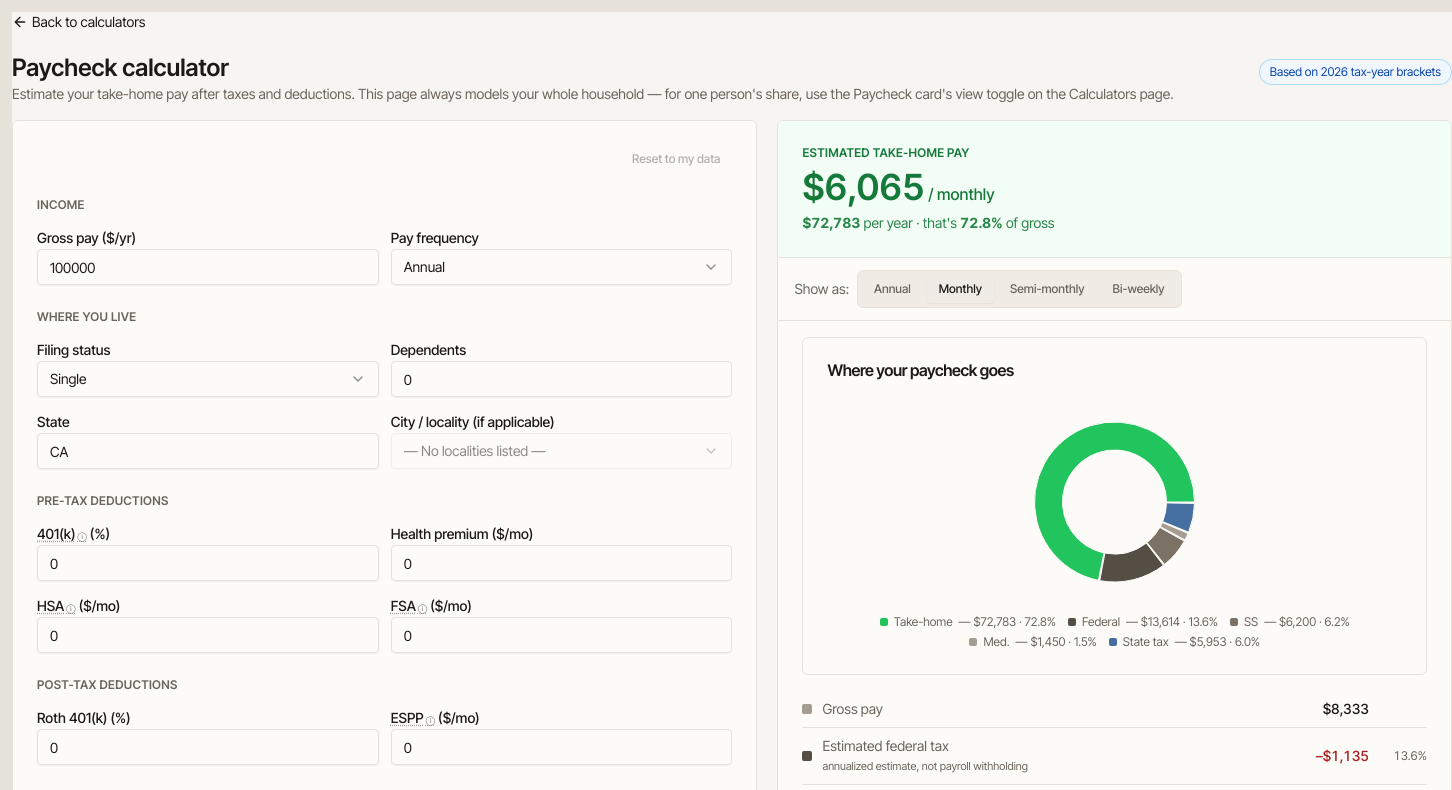
Test: PaycheckCalculator › reverts edits to the seeded profile when "Reset to my data" is clicked
The image size is (1452, 790).
Expected: the text "$6,065" is shown, [802, 165, 925, 209]
Expected: the button "Reset to my data" is disabled, [620, 145, 732, 173]
Replace the text in the number field labelled "Gross pay ($/yr)" with "250000" at (208,267), box [37, 249, 379, 285]
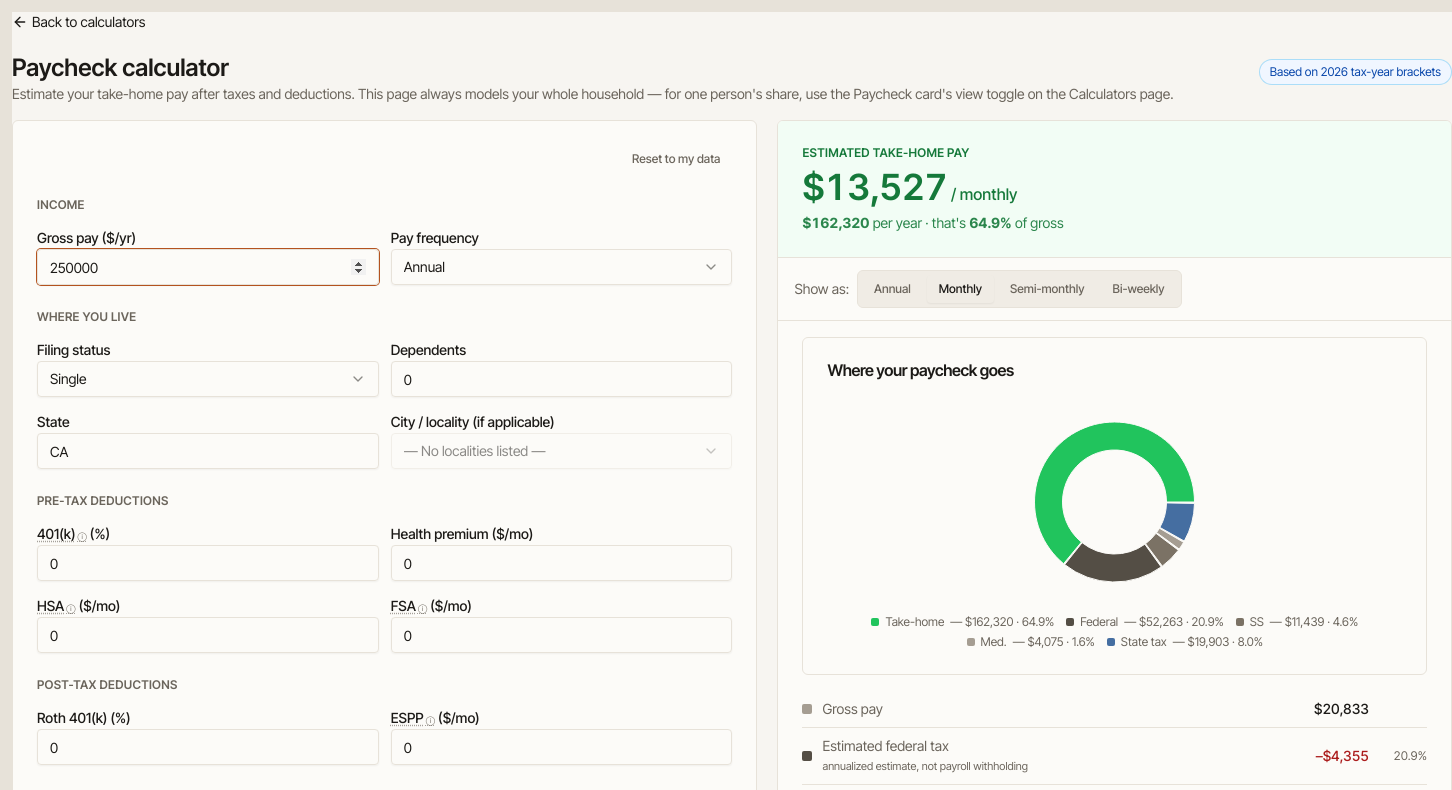
Expected: the button "Reset to my data" is enabled
Click the button "Reset to my data" at (676,159), box [620, 145, 732, 173]
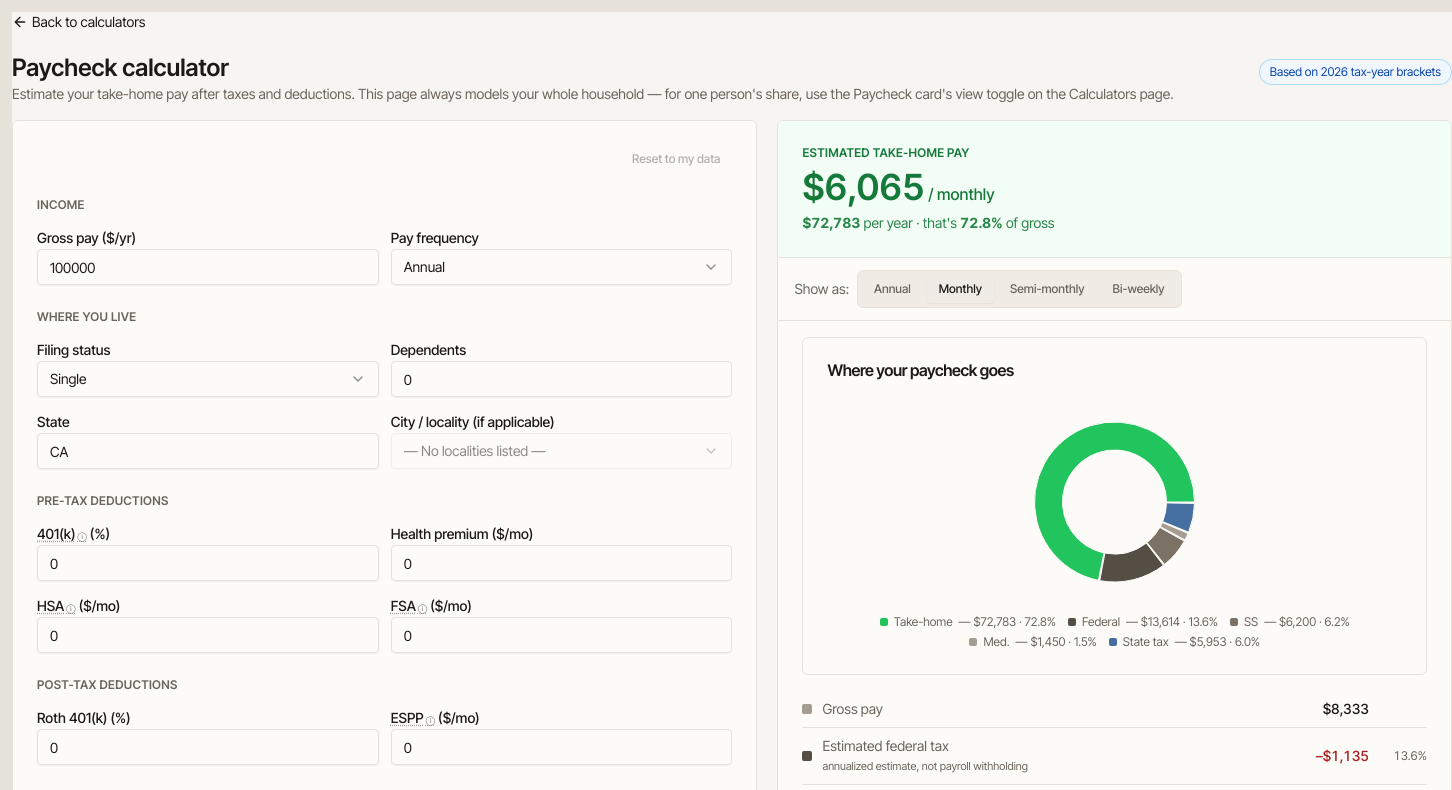
Expected: the number field labelled "Gross pay ($/yr)" holds "100000", [37, 249, 379, 285]
Expected: the button "Reset to my data" is disabled, [620, 145, 732, 173]
